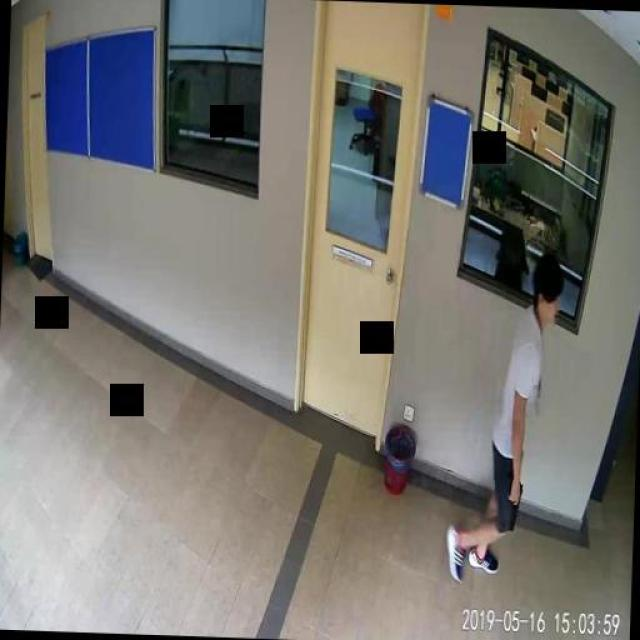gun: (505, 475, 521, 530)
